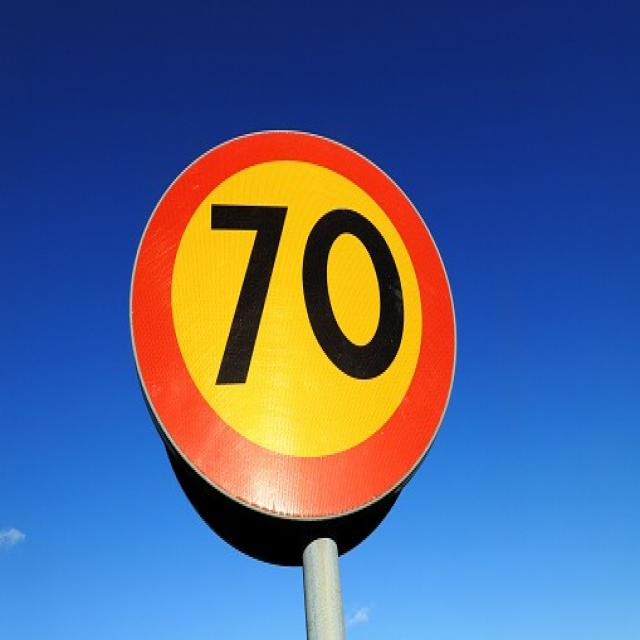speed_limit_70: (127, 121, 459, 526)
